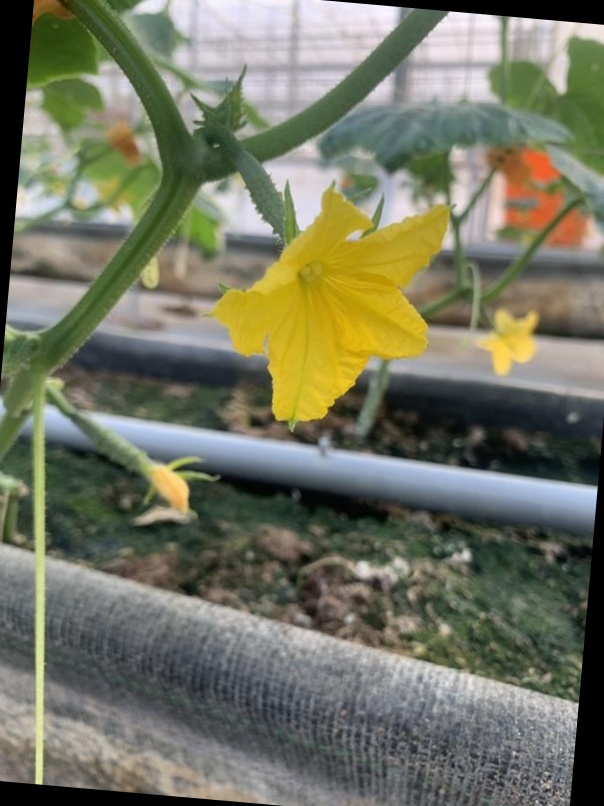flowering: (182, 130, 458, 444)
